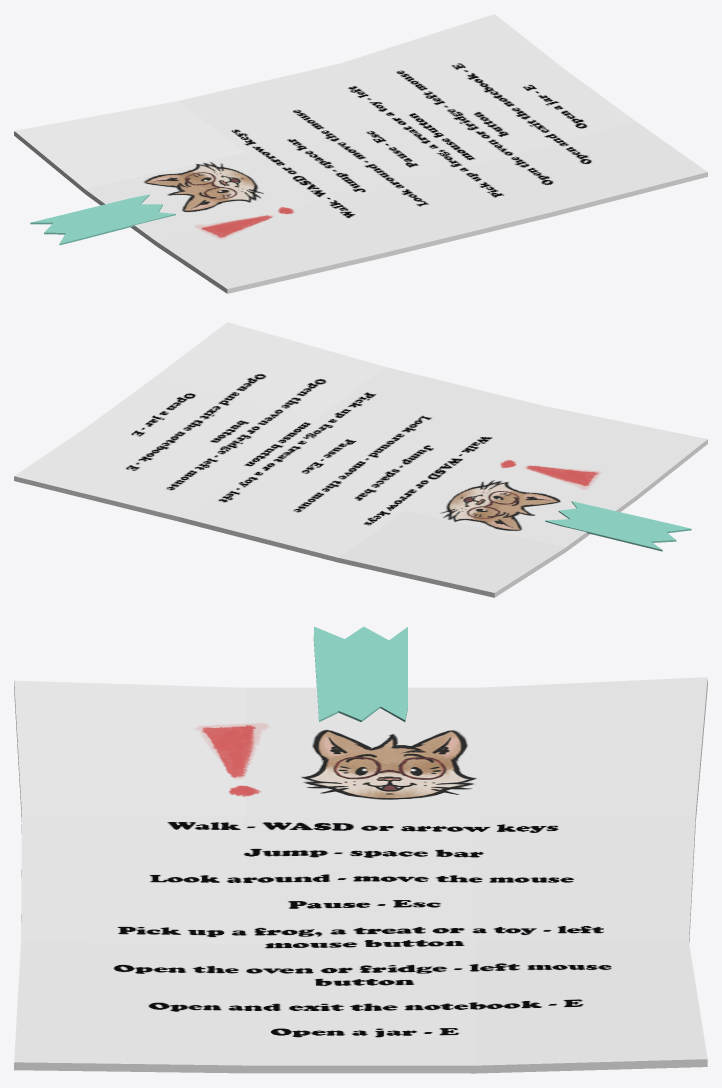
Rendered from note.fbx.
The picture shows the model from 3 angles, top to bottom: view 1: azimuth 30°, elevation 25°; view 2: azimuth 150°, elevation 25°; view 3: azimuth 270°, elevation 25°; orthographic projection. The views are drawn at different scales.
Visible parts, largest first — view 1: Plane, Plane.001; view 2: Plane, Plane.001; view 3: Plane, Plane.001.
Boxes of the visible parts, <box> form: Plane: <box>14,14,707,293</box>; Plane.001: <box>30,194,175,245</box>; Plane: <box>14,322,707,597</box>; Plane.001: <box>545,501,691,551</box>; Plane: <box>14,677,707,1073</box>; Plane.001: <box>313,626,407,722</box>.
Bounding box in the file's own units: 122 × 2.85 × 80.84.
